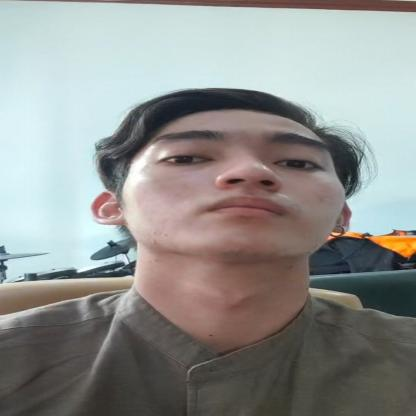Palm: (82, 74, 416, 314)
